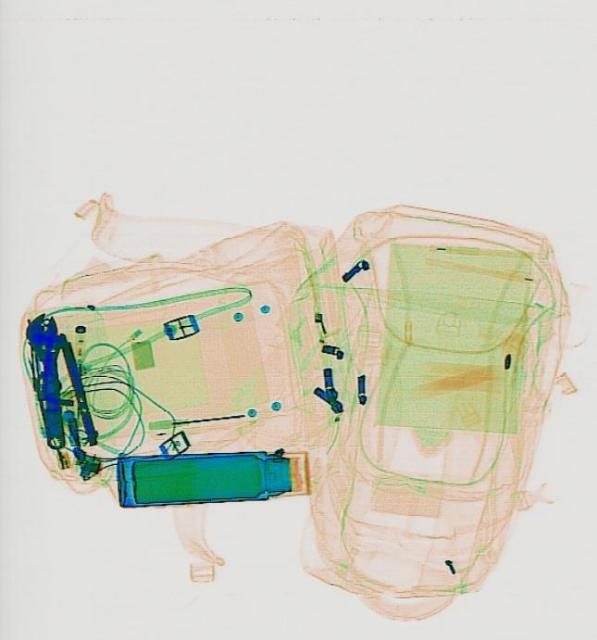Wrench: (20, 310, 71, 450)
